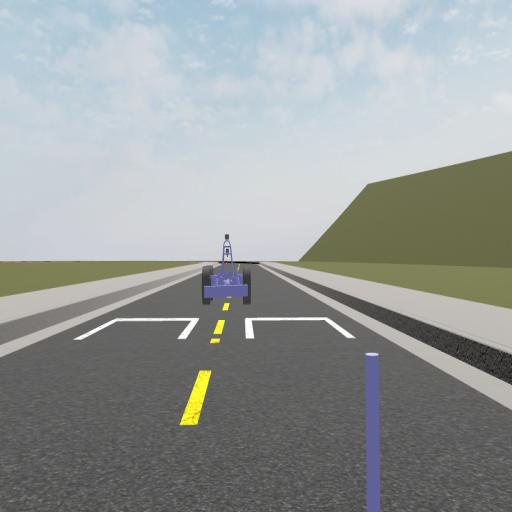ERP-42: (202, 233, 251, 303)
